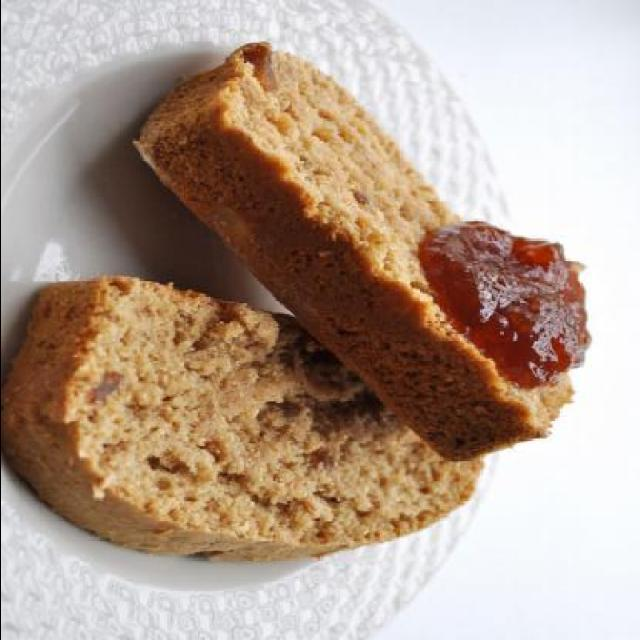Spread: (423, 212, 606, 391)
